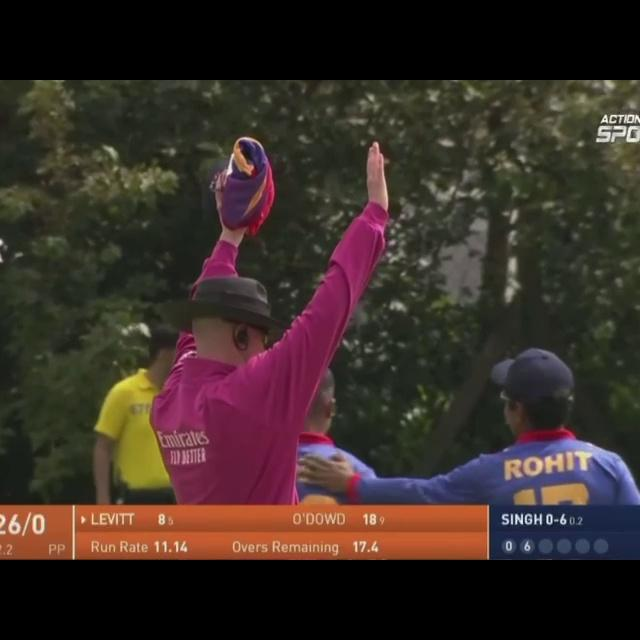umpire: (110, 122, 430, 457)
